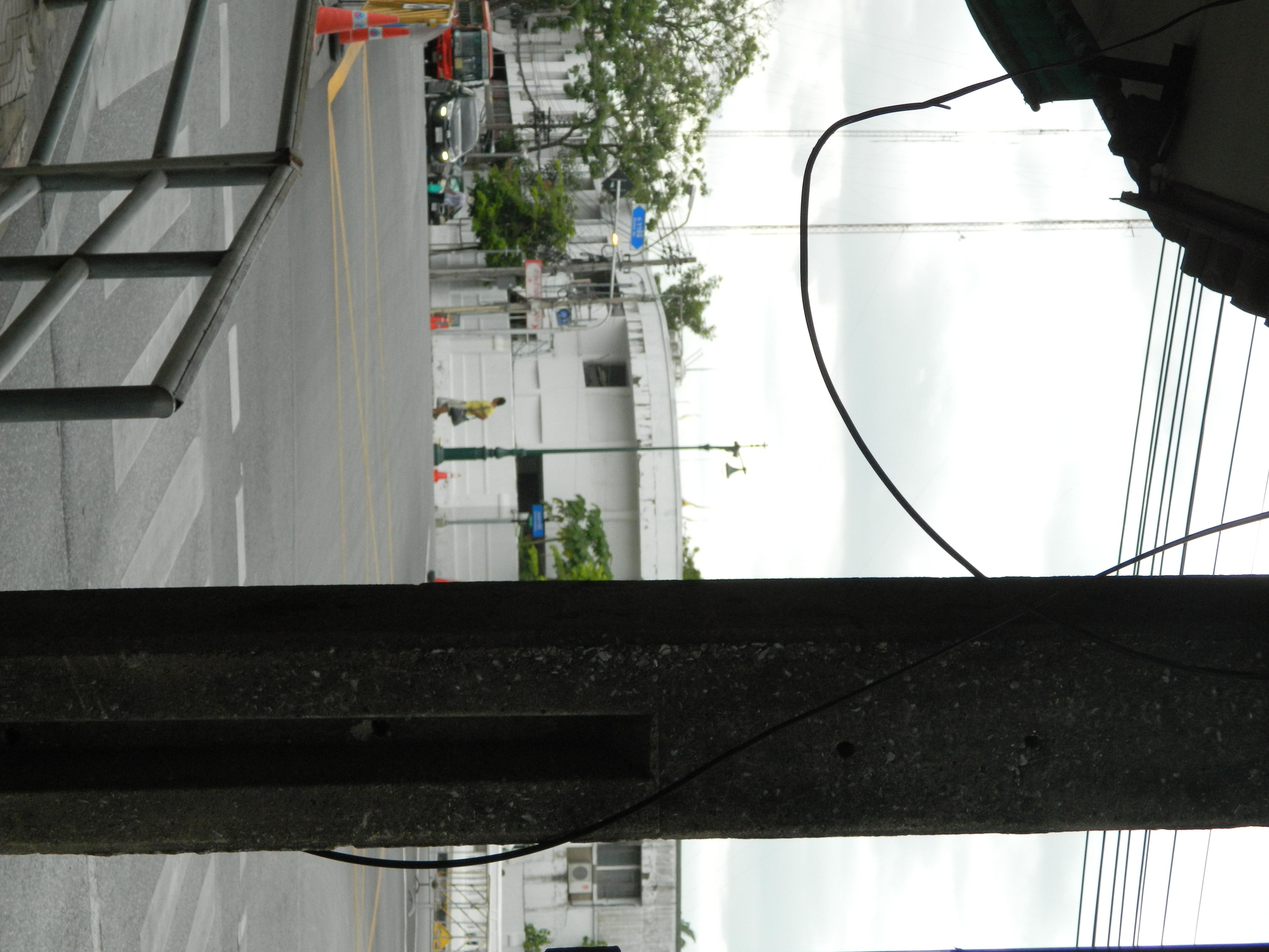wires: (115, 203, 768, 361), (432, 4, 768, 126)
